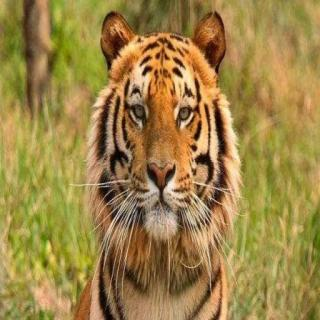Tiger: (70, 0, 259, 320)
